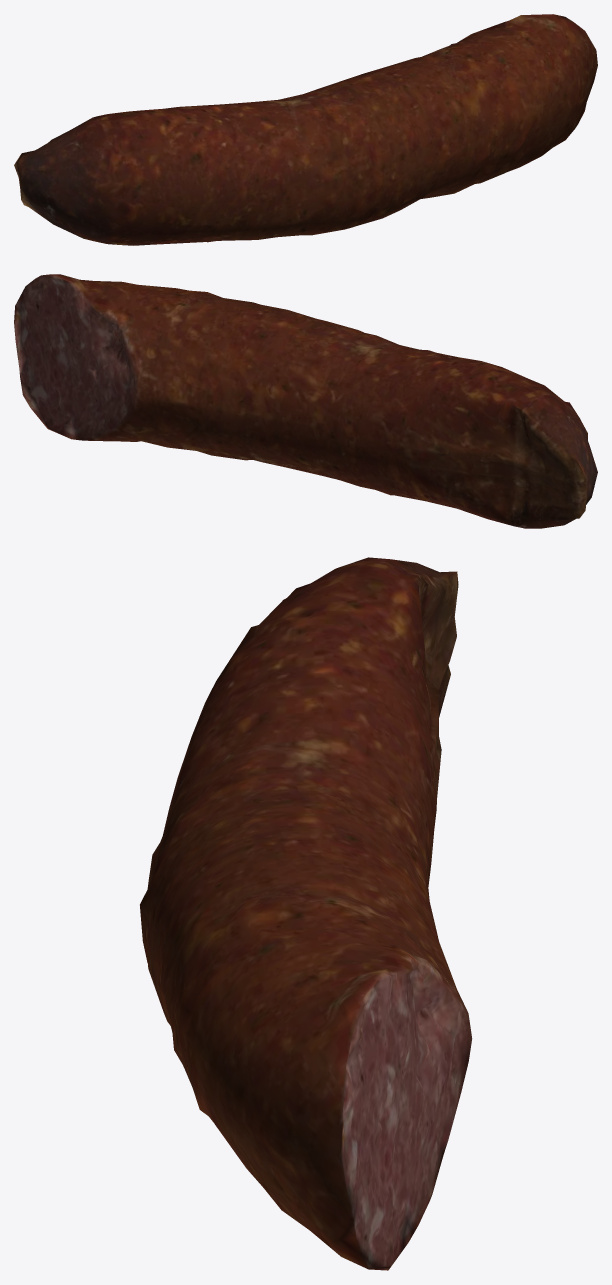
Rendered from sausage_d.glb.
3 renders of one model, top to bottom at view 1: azimuth 30°, elevation 25°; view 2: azimuth 150°, elevation 25°; view 3: azimuth 270°, elevation 25°, orthographic. The views are drawn at different scales.
Parts seen in each view (by area): view 1: wjojcfp_LOD0_TIER2_000; view 2: wjojcfp_LOD0_TIER2_000; view 3: wjojcfp_LOD0_TIER2_000.
Boxes of the visible parts, bbox=[...] form: wjojcfp_LOD0_TIER2_000: bbox=[14, 14, 597, 245]; wjojcfp_LOD0_TIER2_000: bbox=[14, 274, 597, 528]; wjojcfp_LOD0_TIER2_000: bbox=[140, 557, 472, 1270].
Size of the model in its own units: 0.1695 by 0.0407 by 0.044.
Materials: 1 (1 with a texture image).
